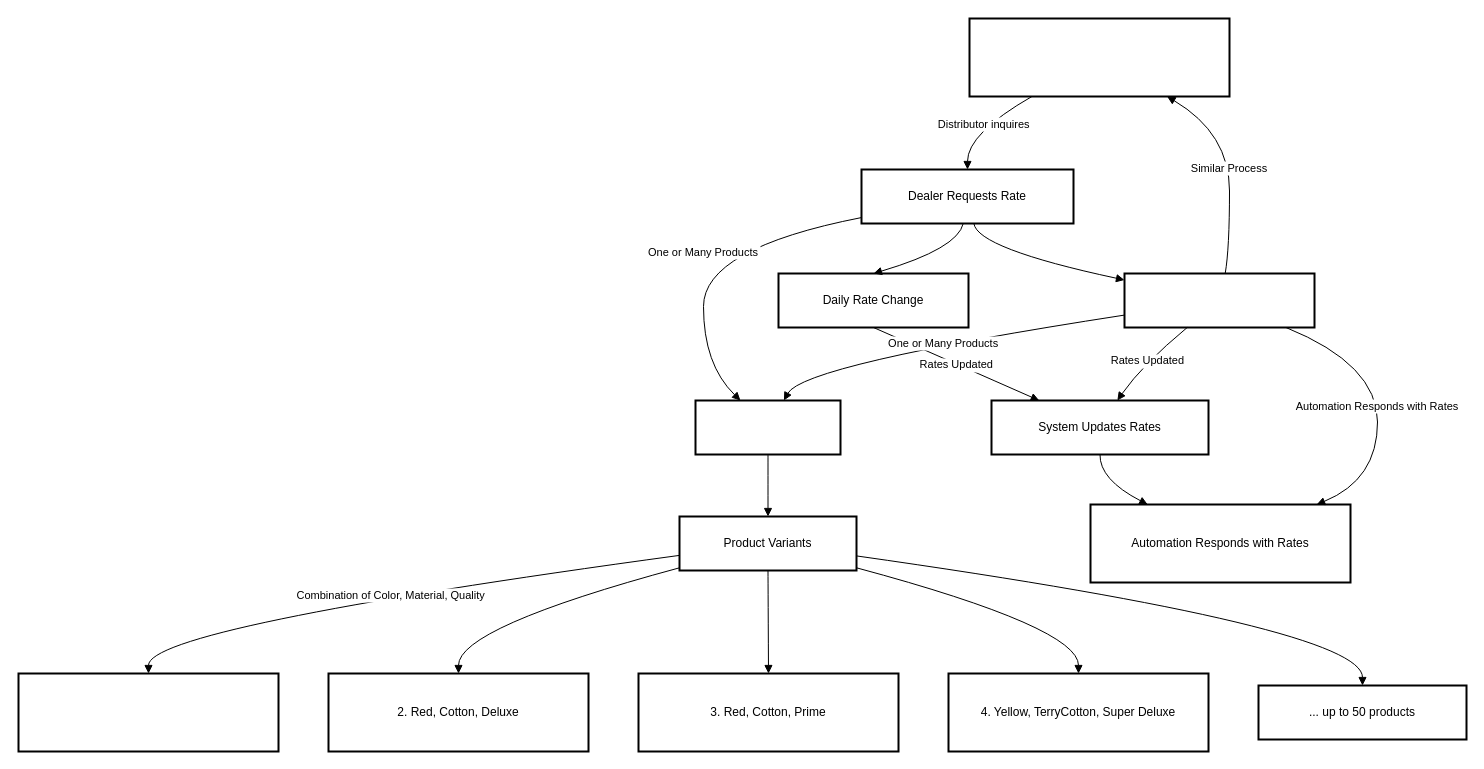
This 1484x769 diagram has some shape labels left out. Here are the shapes that lost their labels. From the top down, the box of each, then its label:
(968, 17, 1230, 97): Whatsapp Response to Standard Questions
(1123, 272, 1315, 328): Phone Call Inquiry
(694, 399, 841, 455): Product List
(17, 672, 279, 752): 1. Red, Cotton, Super Deluxe
